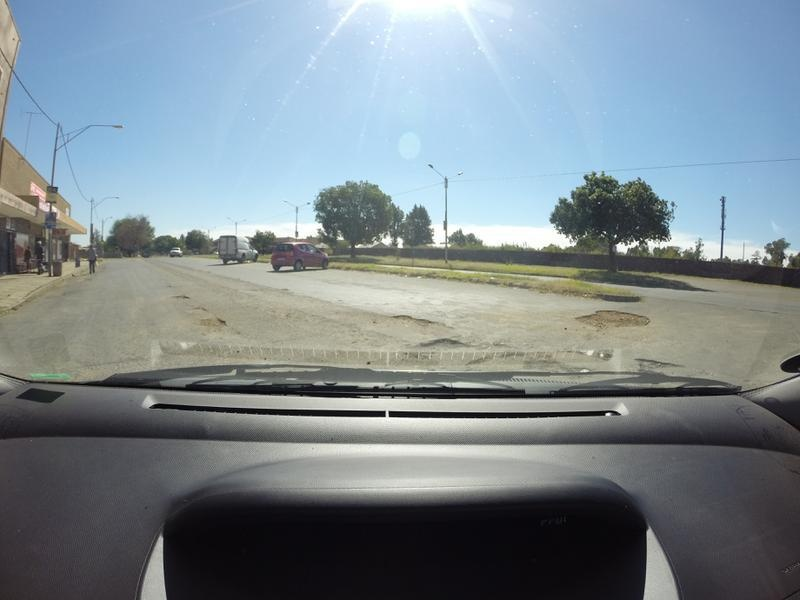pothole: (555, 302, 667, 334), (381, 310, 442, 326), (622, 353, 684, 367), (410, 333, 471, 347), (201, 315, 229, 329)
